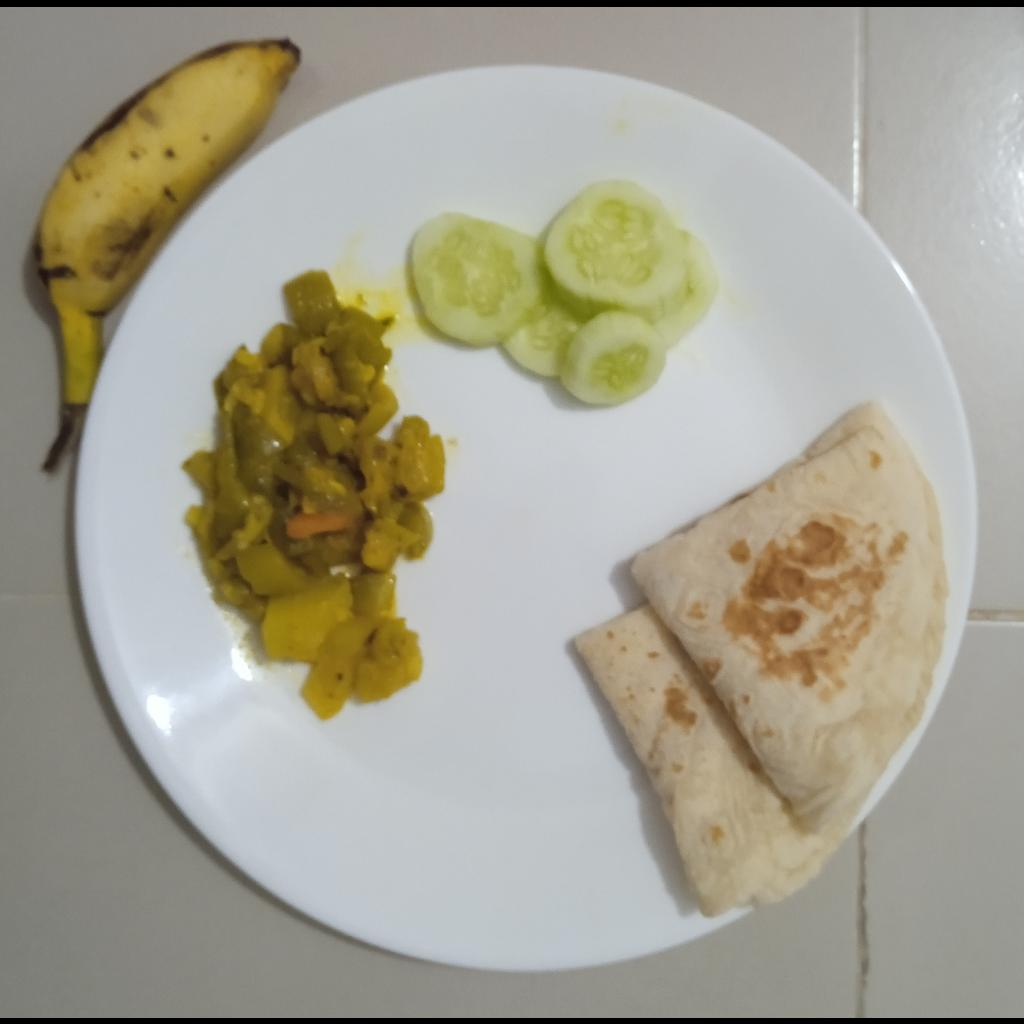banana: (30, 36, 302, 383)
cucumber: (413, 177, 724, 408)
ruti: (574, 397, 950, 919)
vegetable: (182, 268, 445, 721)
